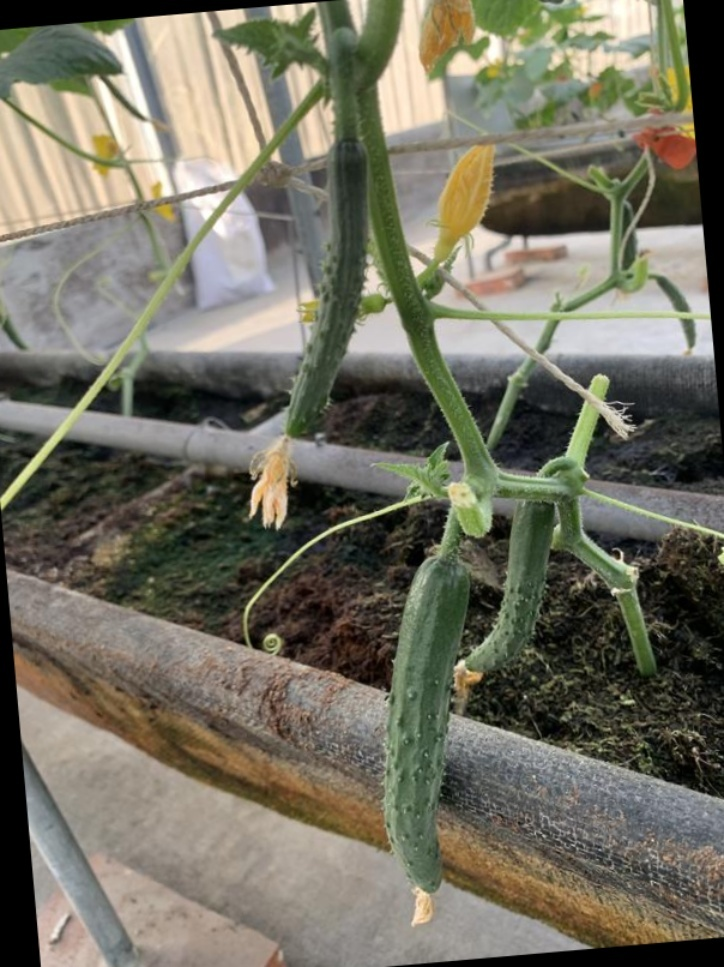bud: (424, 139, 507, 275)
growth: (221, 138, 374, 535), (365, 547, 477, 924)
